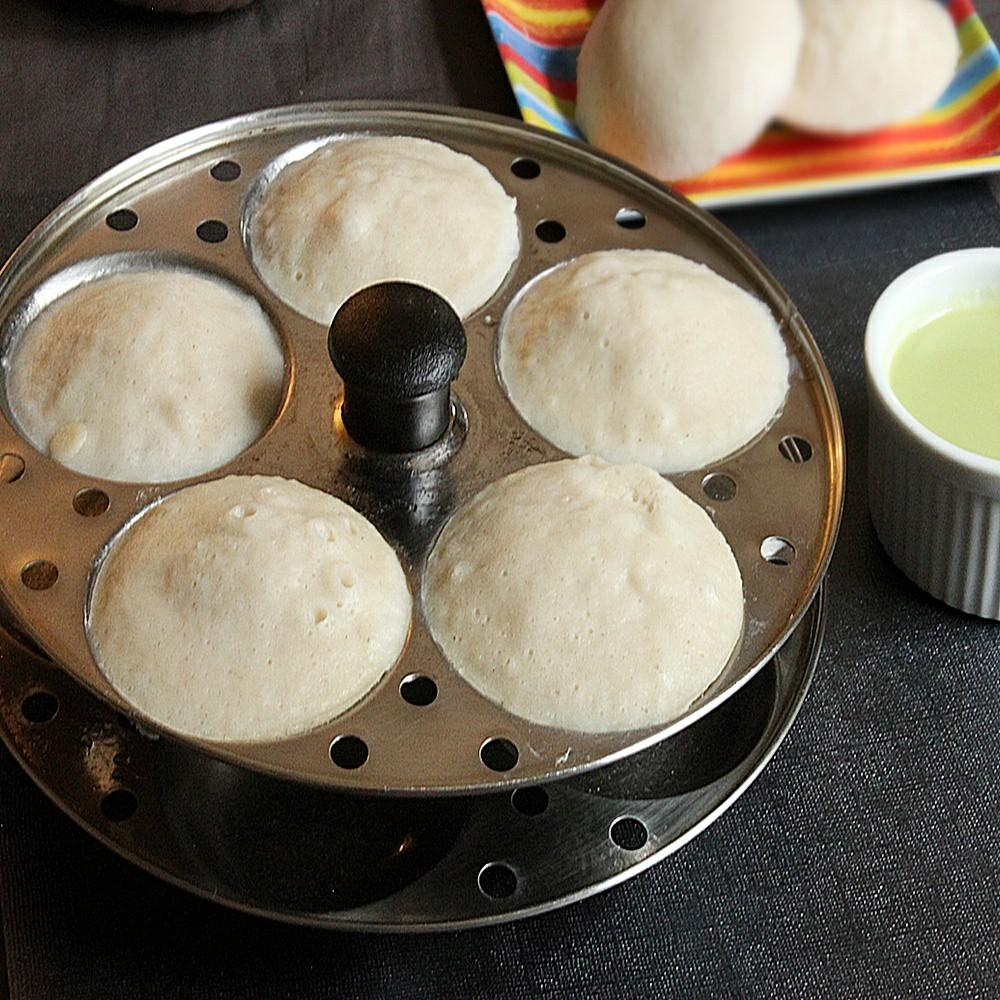Idli: (417, 460, 735, 735), (89, 473, 407, 744), (494, 248, 790, 473), (23, 266, 276, 481), (251, 133, 516, 327), (571, 0, 789, 176), (775, 0, 960, 132)
